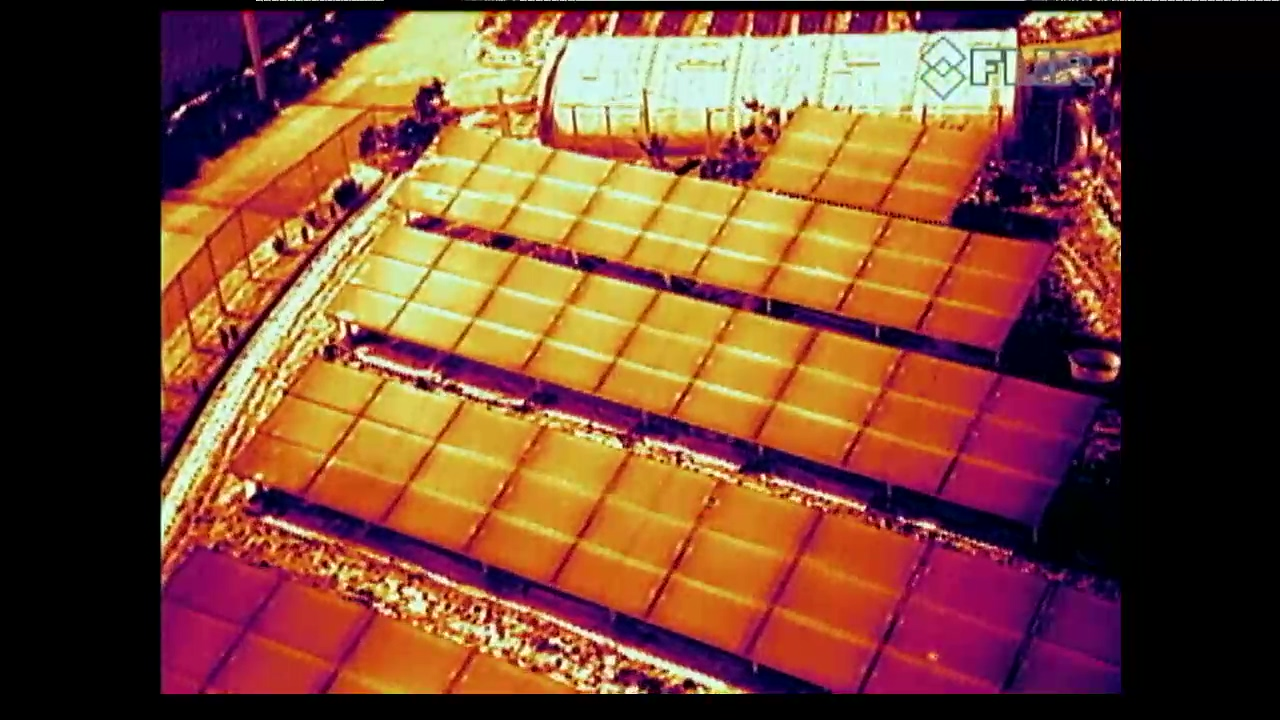hotspot: (839, 538, 1055, 693)
